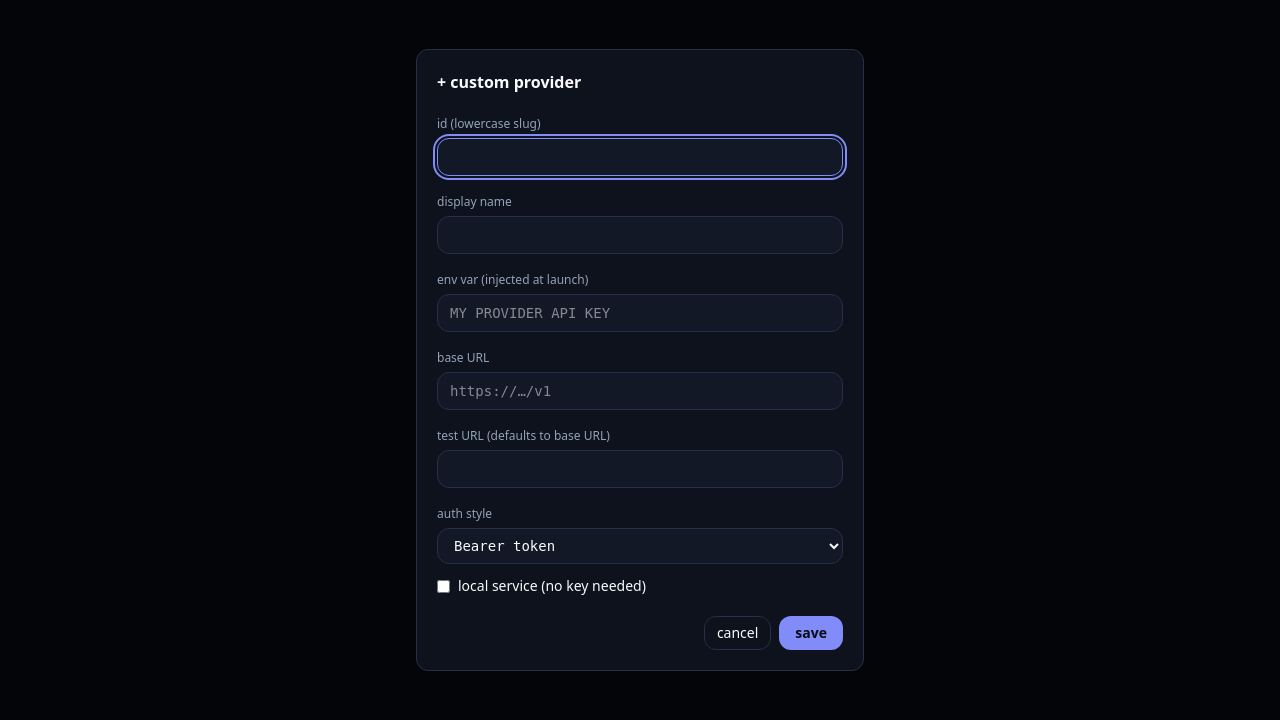
Test: VaultProviderDialog (R48) › backend validation errors surface inline with role=alert
The width and height of the screenshot is (1280, 720).
Click the button with test id "vp-save": (811, 633) x1=779 y1=616 x2=843 y2=650
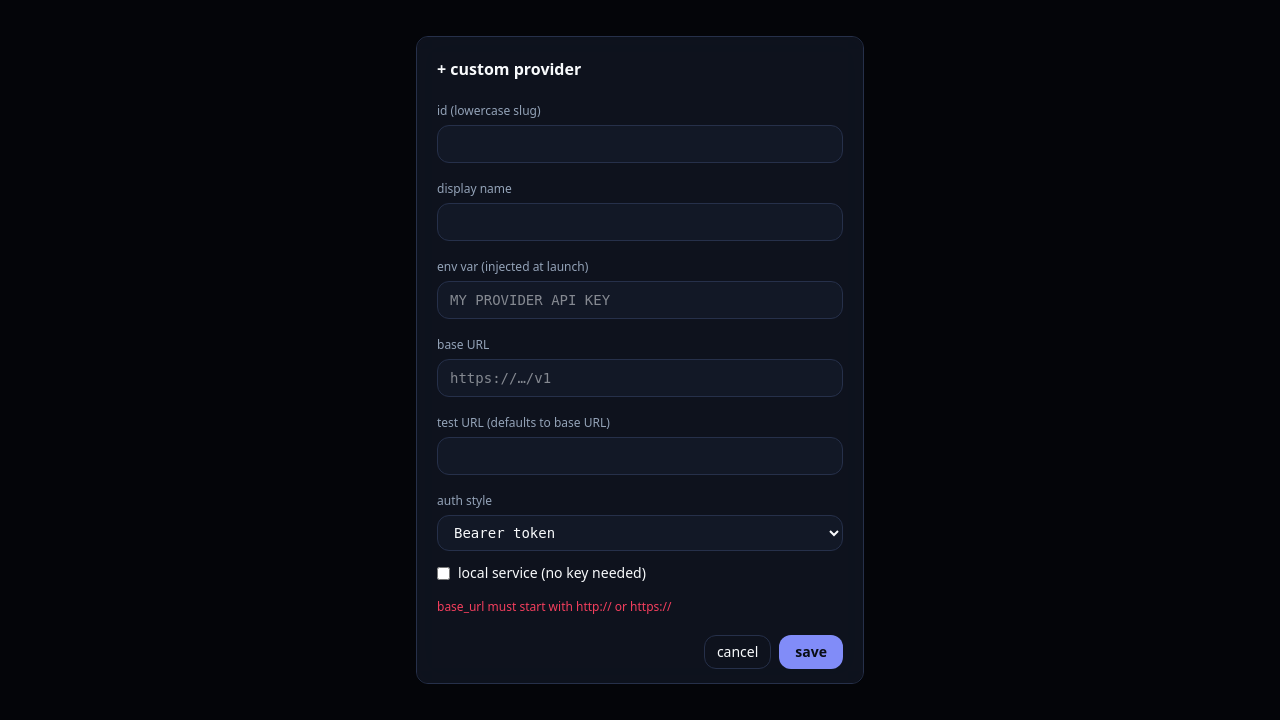
Now the message shows "base_url", box x1=437 y1=598 x2=671 y2=615
